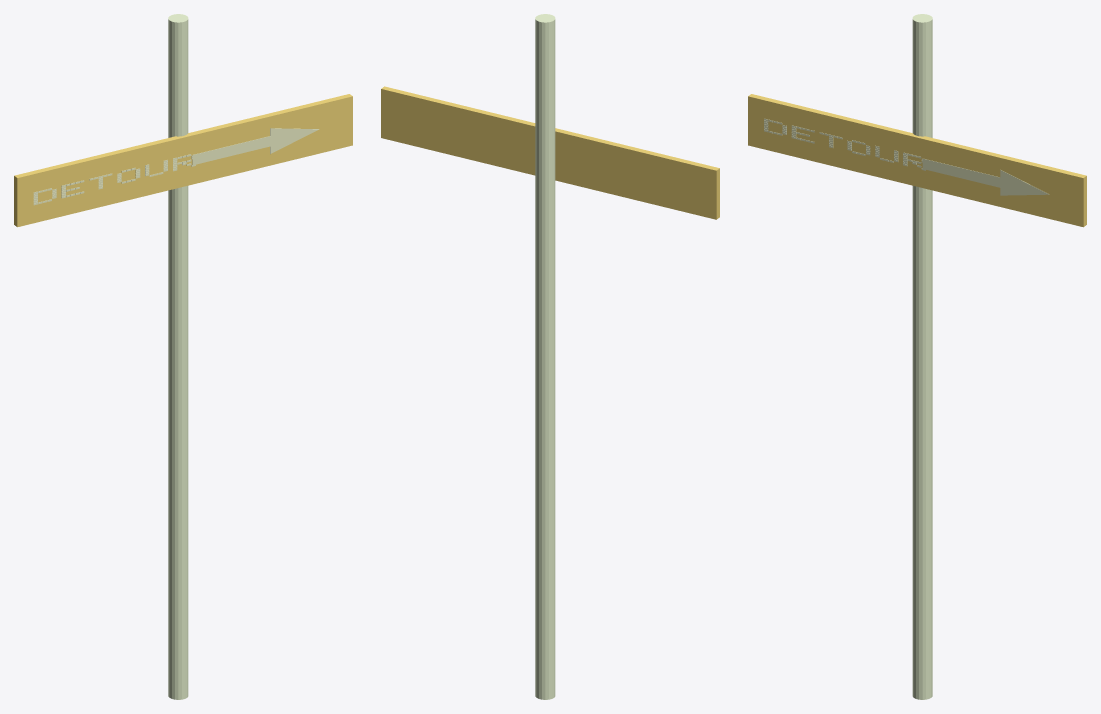
The model's file is sign_detour_right_text.glb.
3 renders of one model, left to right at view 1: azimuth 30°, elevation 25°; view 2: azimuth 150°, elevation 25°; view 3: azimuth 330°, elevation 25°, orthographic.
Visible parts, largest first — view 1: plate_base_00, pole, layer_1_00, layer_1_01; view 2: plate_base_00, pole; view 3: plate_base_00, pole, layer_1_00, layer_1_01.
Part boxes in pixels (x1,y1,x2,y2): plate_base_00: (14, 94, 352, 227); pole: (168, 14, 188, 699); layer_1_00: (192, 136, 270, 165); layer_1_01: (270, 128, 319, 153); plate_base_00: (381, 86, 719, 219); pole: (535, 14, 555, 699); plate_base_00: (748, 94, 1086, 227); pole: (912, 14, 932, 699); layer_1_00: (922, 158, 1000, 187); layer_1_01: (1000, 170, 1049, 195).
Size of the model in its own units: 1.14 by 2.2 by 0.071.
